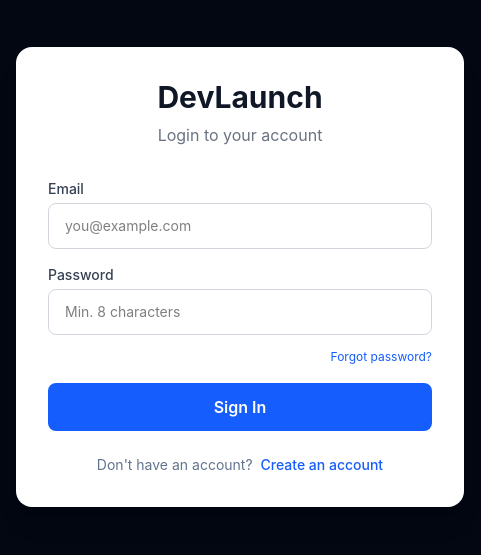
Test: LoginPage › surfaces a generic API error
Step 1. Type "dev@example.com" into the field with placeholder "you@example.com" → (240, 226), box [48,203,432,249]
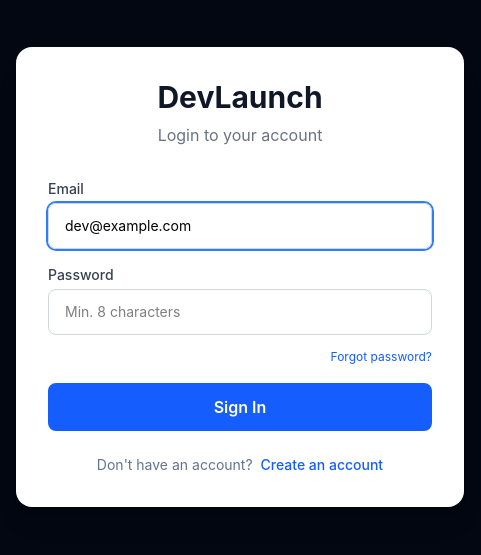
Step 2. Type "wrongpass" into the password field with placeholder "Min. 8 characters" → (240, 312), box [48,289,432,335]
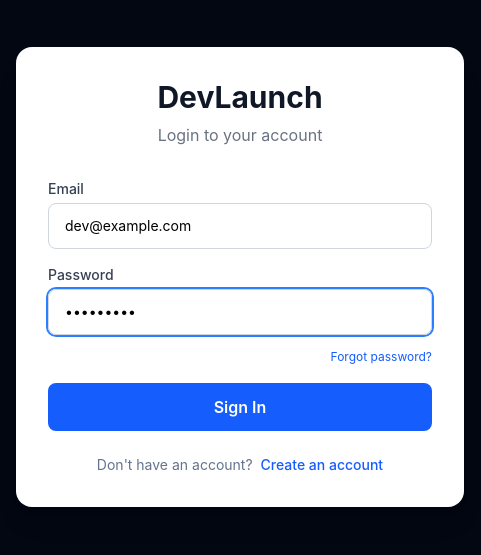
Step 3. Click the button "Sign In" → click(240, 407), box [48,383,432,431]
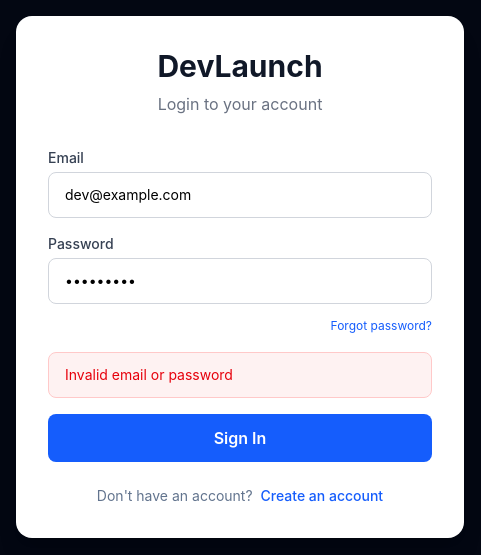
Result: the text "Invalid email or password" is shown at [65,366,233,383]
